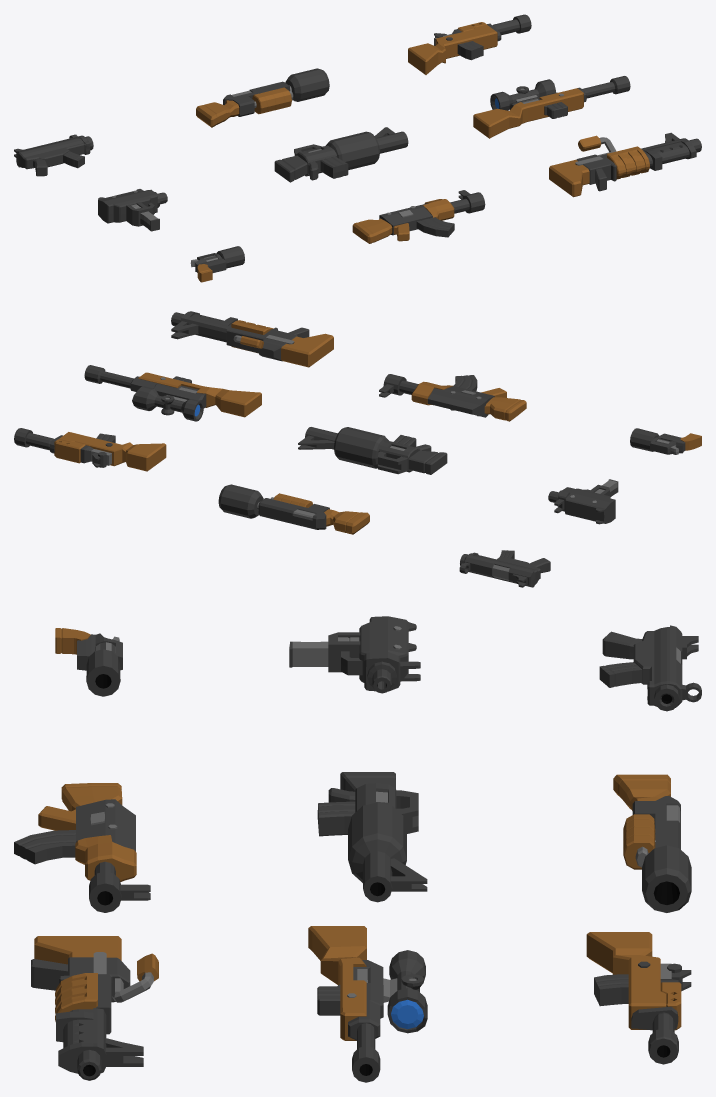
Rendered from Gunpack.glb.
3 views of the same model, one above another, from view 1: azimuth 30°, elevation 25°; view 2: azimuth 150°, elevation 25°; view 3: azimuth 270°, elevation 25° (orthographic). The views are drawn at different scales.
Visible parts, largest first — view 1: 9, 8, 4, 1, 6, 2, 3, 7, 5; view 2: 8, 9, 4, 1, 2, 6, 3, 7, 5; view 3: 9, 8, 6, 4, 2, 1, 3, 7, 5.
Boxes of the visible parts, left/top/right/bottom form: 9: left=549, top=132, right=701, bottom=197; 8: left=473, top=76, right=630, bottom=138; 4: left=274, top=127, right=408, bottom=182; 1: left=196, top=68, right=329, bottom=127; 6: left=352, top=190, right=485, bottom=243; 2: left=408, top=14, right=531, bottom=74; 3: left=98, top=189, right=167, bottom=231; 7: left=14, top=134, right=93, bottom=176; 5: left=190, top=246, right=244, bottom=282; 8: left=84, top=365, right=261, bottom=421; 9: left=171, top=311, right=333, bottom=367; 4: left=298, top=427, right=447, bottom=474; 1: left=218, top=484, right=369, bottom=534; 2: left=14, top=428, right=166, bottom=471; 6: left=379, top=374, right=526, bottom=421; 3: left=548, top=479, right=618, bottom=524; 7: left=459, top=550, right=550, bottom=587; 5: left=630, top=428, right=701, bottom=454; 9: left=31, top=936, right=158, bottom=1080; 8: left=308, top=926, right=427, bottom=1082; 6: left=14, top=783, right=150, bottom=912; 4: left=317, top=772, right=427, bottom=902; 2: left=586, top=932, right=691, bottom=1064; 1: left=613, top=774, right=691, bottom=912; 3: left=289, top=616, right=420, bottom=693; 7: left=599, top=625, right=701, bottom=711; 5: left=55, top=628, right=122, bottom=696.
Size of the model in its own units: 7.63 by 0.4745 by 4.91.
